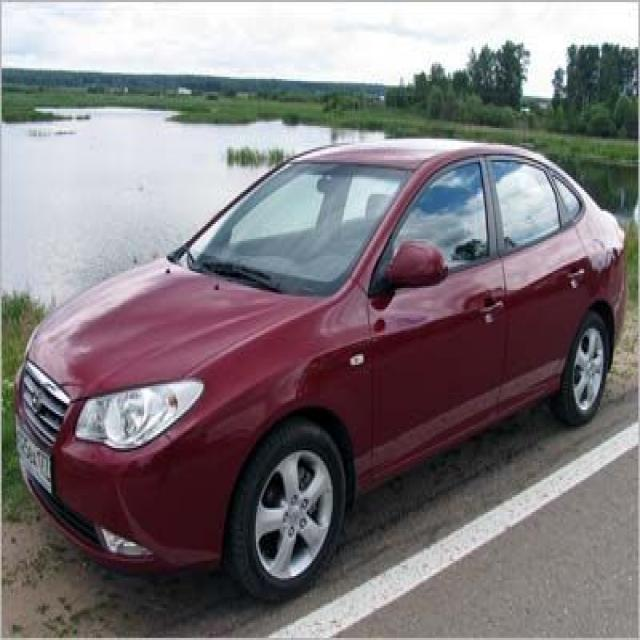car: (13, 132, 635, 598)
